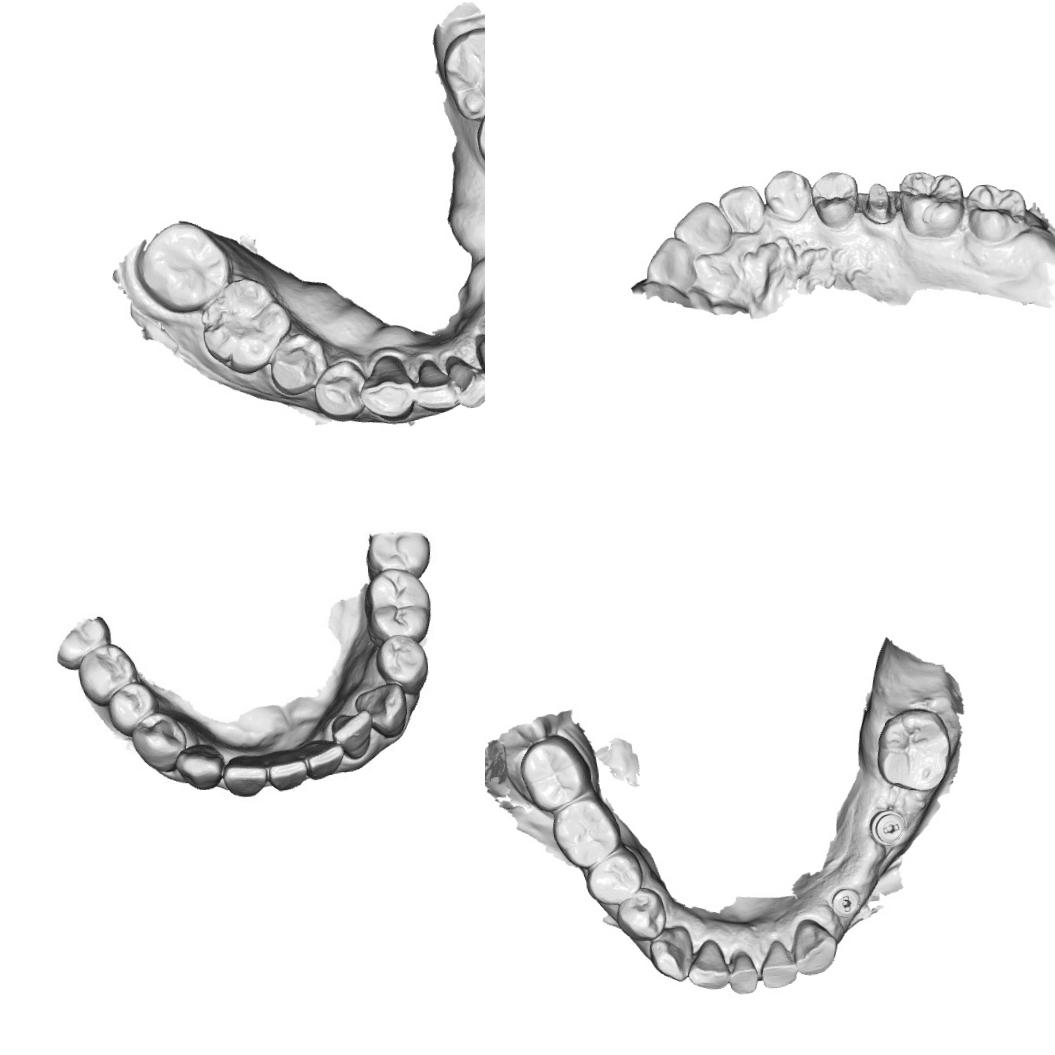canine: (357, 353, 417, 423), (759, 166, 814, 225), (169, 742, 226, 795), (647, 920, 694, 984), (356, 684, 410, 729)
crown: (860, 179, 898, 226)
implant_minus: (865, 806, 907, 848), (829, 884, 862, 920)
incisor: (668, 196, 734, 260), (642, 233, 699, 293), (714, 182, 768, 238), (790, 916, 838, 978), (686, 934, 734, 992), (413, 357, 460, 416), (442, 352, 485, 410), (224, 748, 272, 798), (757, 937, 800, 990), (306, 736, 352, 782), (335, 712, 377, 758), (268, 750, 310, 790), (725, 948, 759, 995), (472, 332, 485, 389)
molar: (132, 216, 232, 318), (194, 274, 294, 376), (872, 704, 955, 794), (514, 732, 592, 813), (548, 791, 623, 871), (895, 166, 967, 240), (72, 636, 143, 708), (366, 567, 433, 640), (962, 176, 1031, 244), (439, 22, 485, 121)
premolar: (582, 844, 646, 908), (267, 330, 326, 397), (612, 884, 668, 944), (311, 358, 365, 420), (809, 166, 860, 231), (134, 712, 186, 770), (105, 676, 156, 730), (379, 637, 425, 684)
